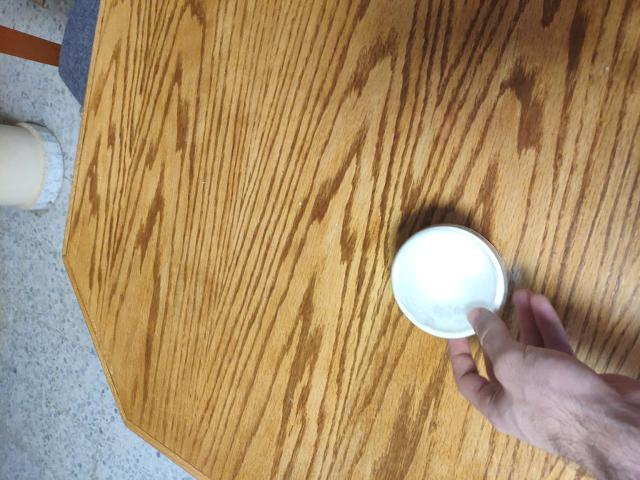cotage: (389, 215, 502, 346)
